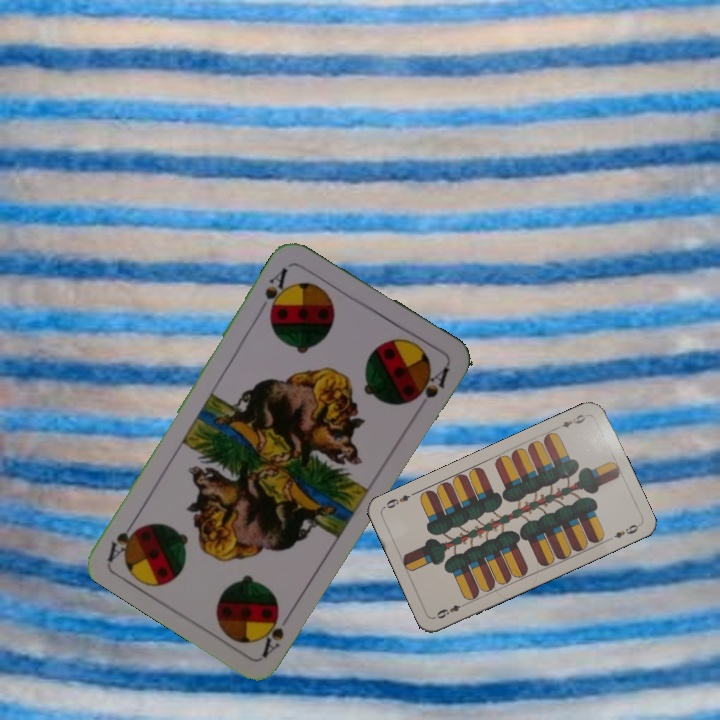E9: (432, 598, 469, 621), (557, 410, 591, 430)
SA: (252, 603, 294, 660), (260, 263, 292, 318)
